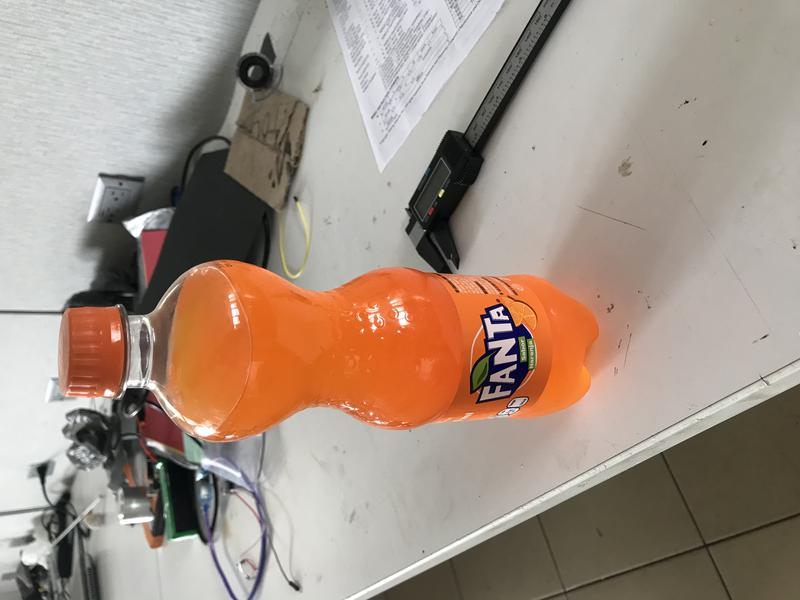fanta: (57, 260, 599, 440)
